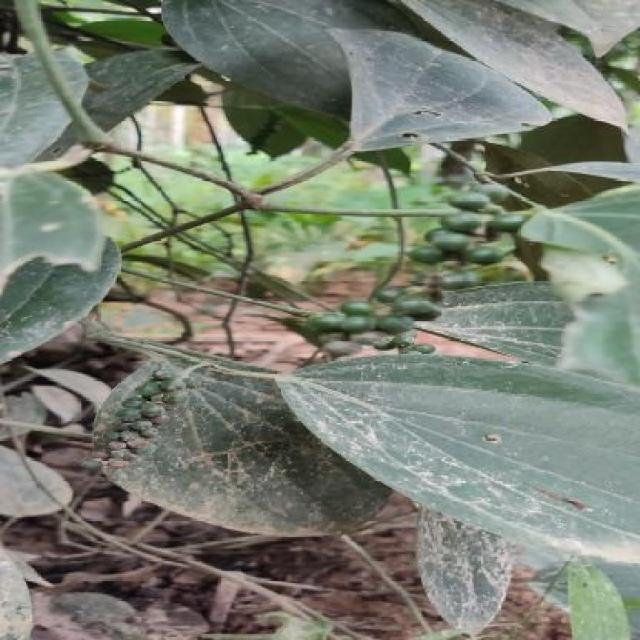UNRIPE: (310, 185, 521, 357), (109, 369, 192, 468)
